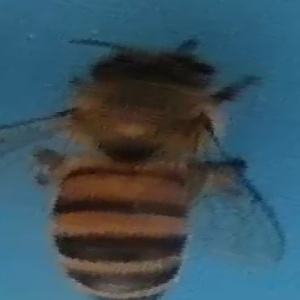bee: (5, 34, 290, 300)
